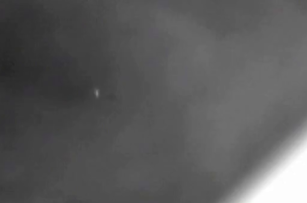Target: (96, 91, 99, 97)
